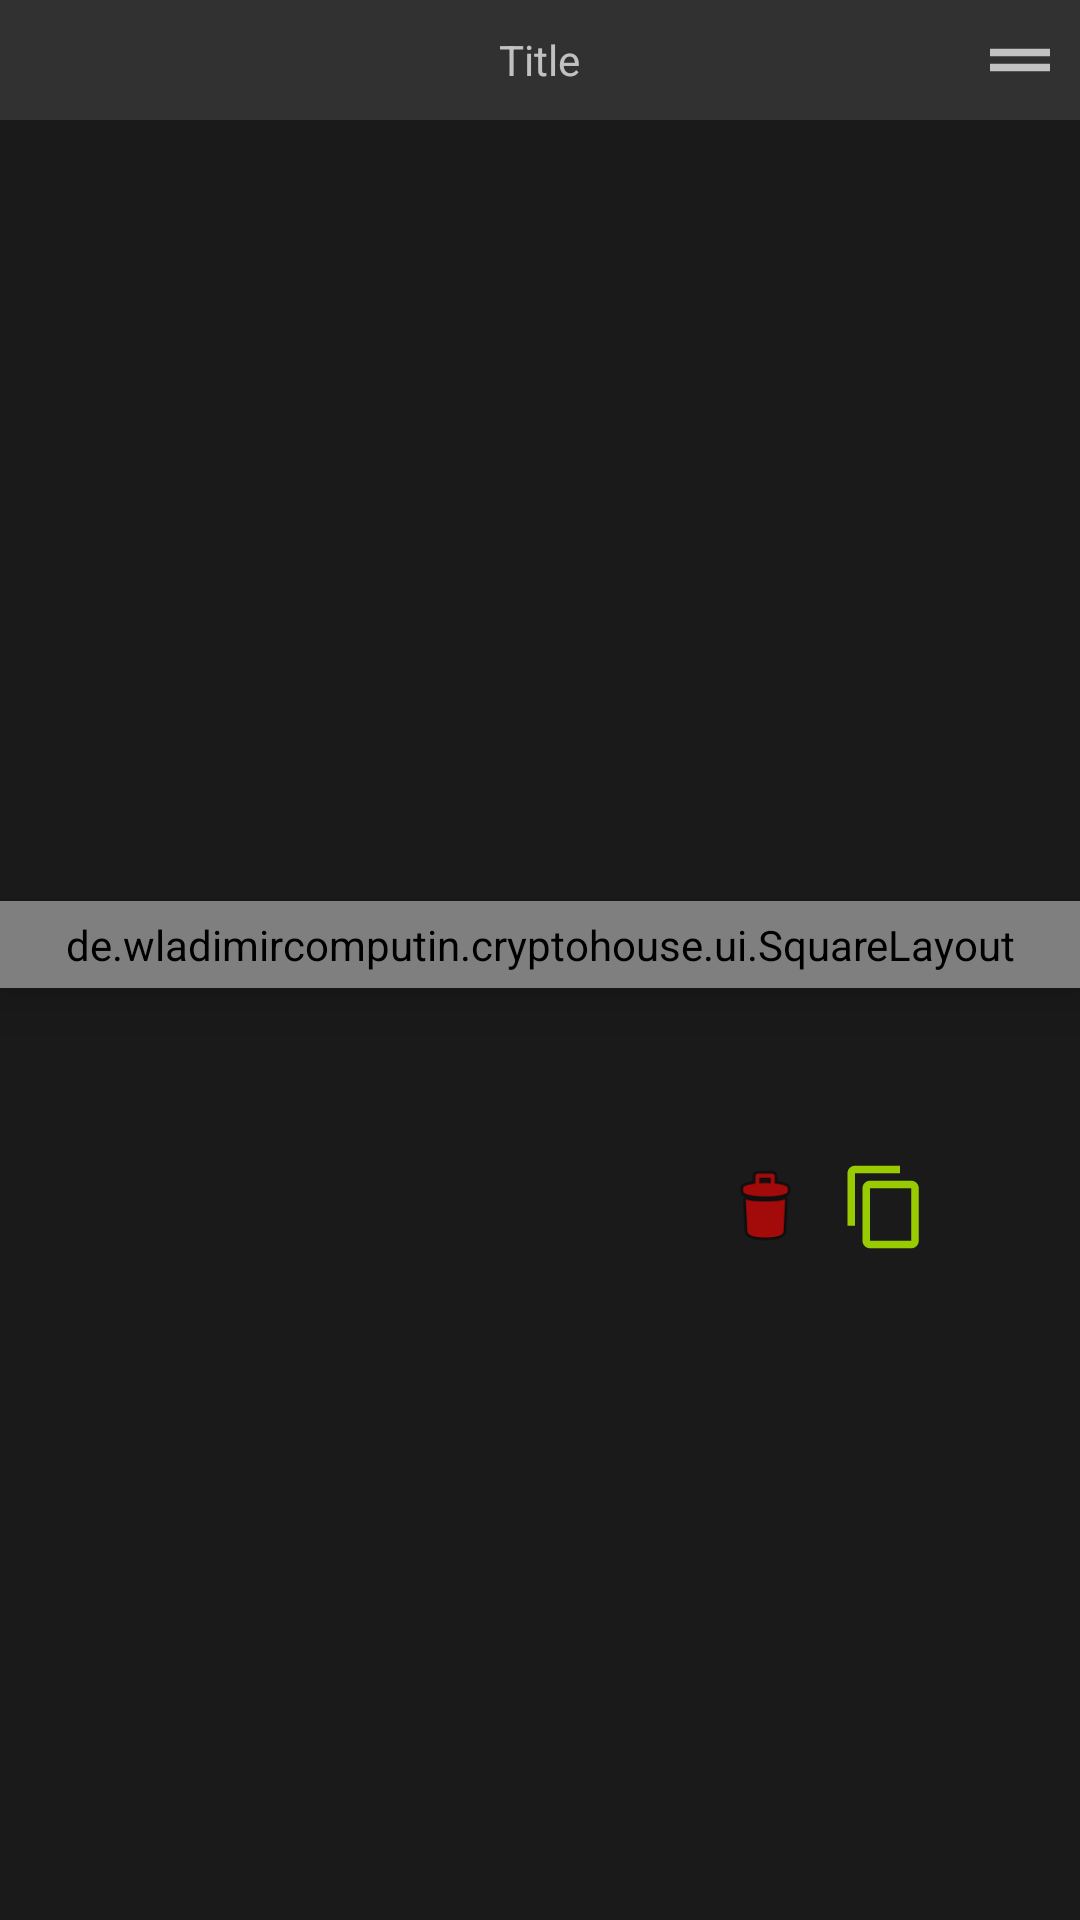

Locate icon controls on the screen. Image size 1080×1920, boxes as (x1, y1, x2, y2).
delete: (743, 1173, 788, 1238)
drag handle: (990, 48, 1050, 72)
